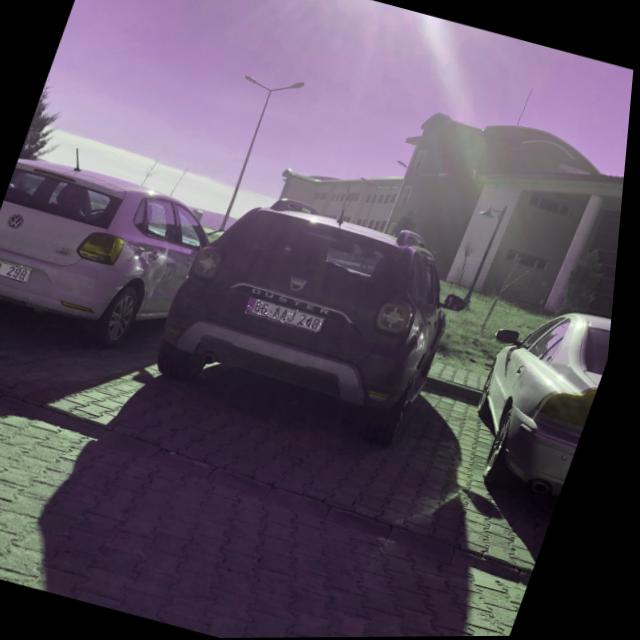license_plate: (249, 297, 332, 333), (0, 255, 38, 282)
